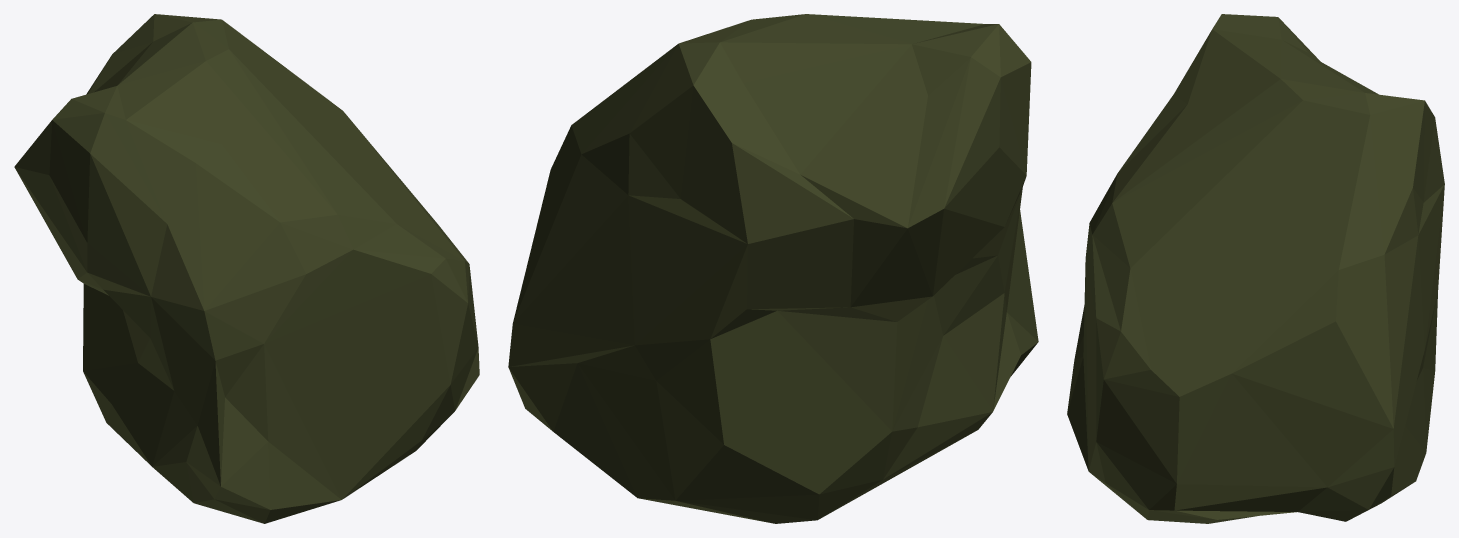
Rendered from SM_small_rock_14.fbx.
3 views of the same model, side by side, from view 1: azimuth 30°, elevation 25°; view 2: azimuth 150°, elevation 25°; view 3: azimuth 270°, elevation 25° (orthographic). The views are drawn at different scales.
Visible parts, largest first — view 1: small_rock_14; view 2: small_rock_14; view 3: small_rock_14.
Part boxes in pixels (box(x1,y1,x2,y2)): small_rock_14: box(14, 14, 479, 523); small_rock_14: box(508, 14, 1038, 523); small_rock_14: box(1067, 14, 1444, 523).
Bounding box in the file's own units: 15.53 × 15.2 × 13.54.
